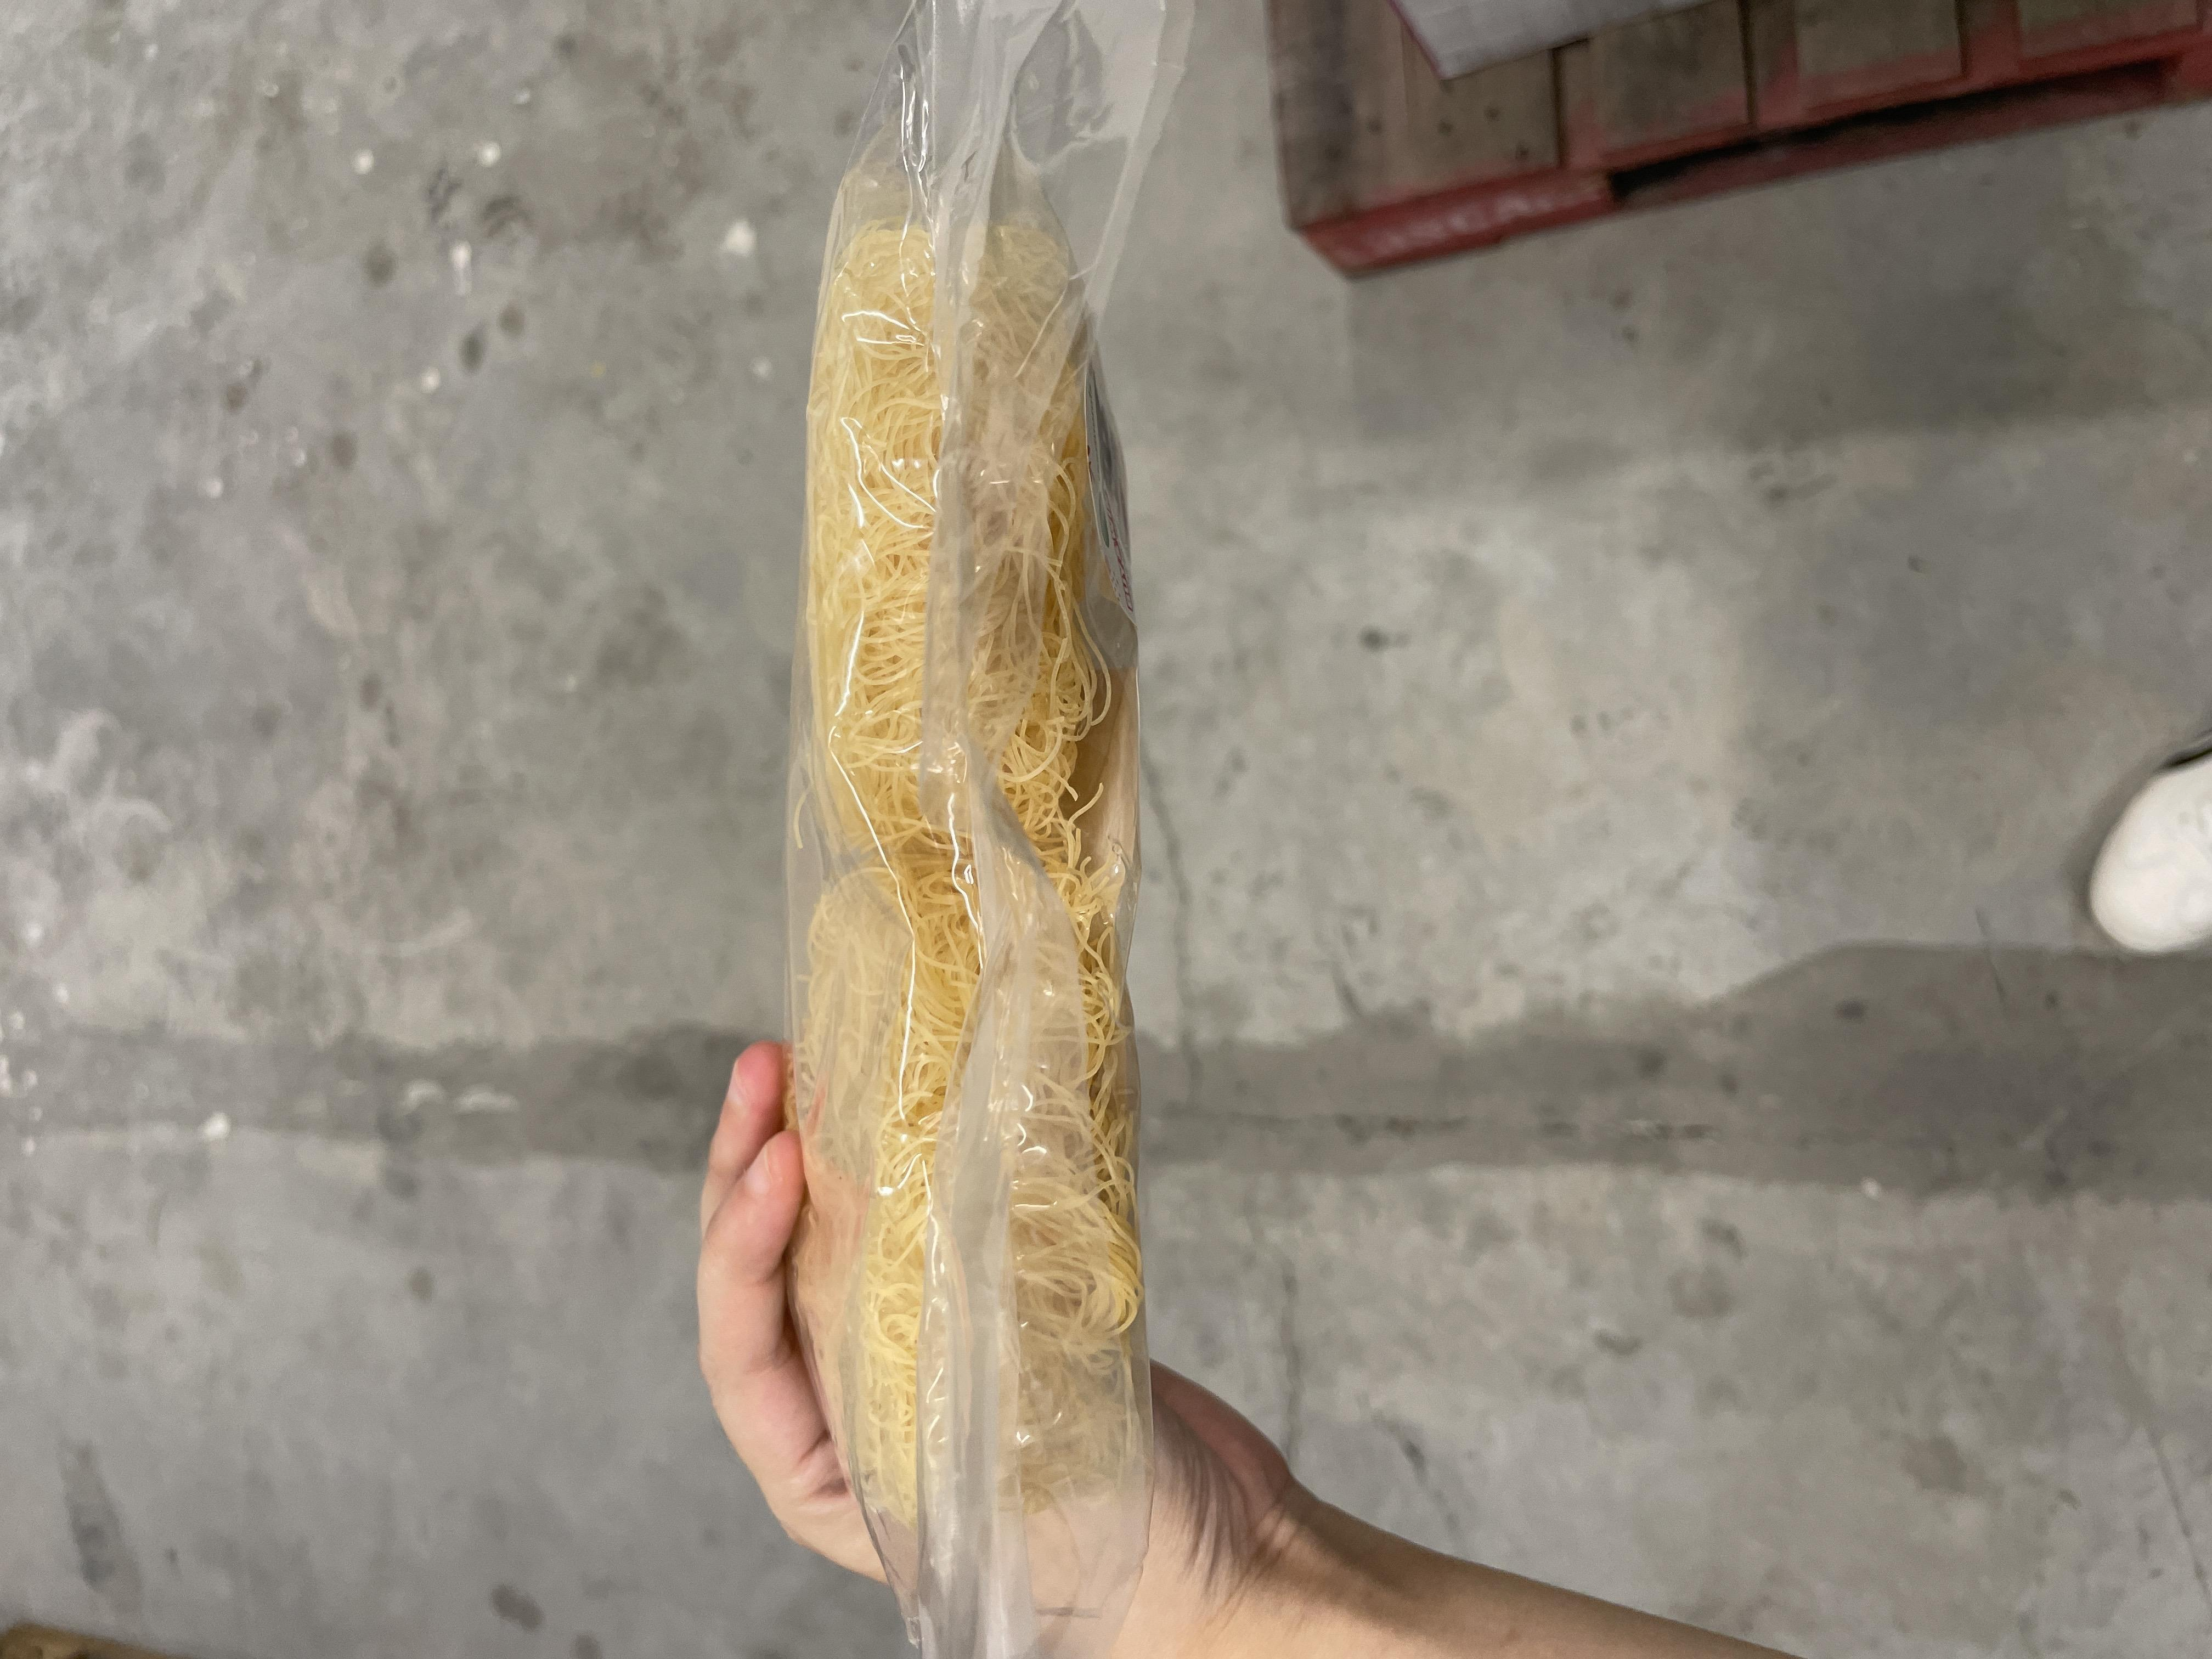object_name: (132, 850, 1508, 1103)
